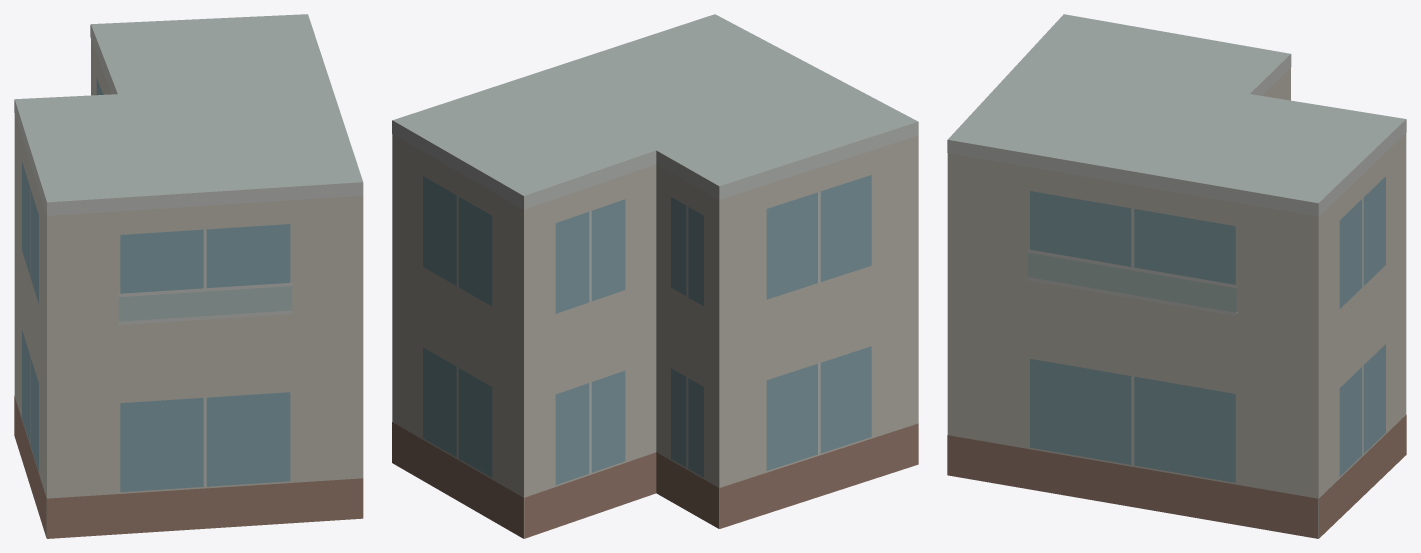
Rendered from survey-upis-32550119.glb.
The picture shows the model from 3 angles, left to right: view 1: azimuth 30°, elevation 25°; view 2: azimuth 150°, elevation 25°; view 3: azimuth 270°, elevation 25°; orthographic projection. The views are drawn at different scales.
Parts seen in each view (by area): view 1: survey-upis-32550119.tmp; view 2: survey-upis-32550119.tmp; view 3: survey-upis-32550119.tmp.
Part boxes in pixels (left/top/right/bottom): survey-upis-32550119.tmp: left=14, top=14, right=363, bottom=538; survey-upis-32550119.tmp: left=392, top=14, right=918, bottom=538; survey-upis-32550119.tmp: left=947, top=14, right=1406, bottom=538.
Bounding box in the file's own units: 7.39 × 6.1 × 7.57.
